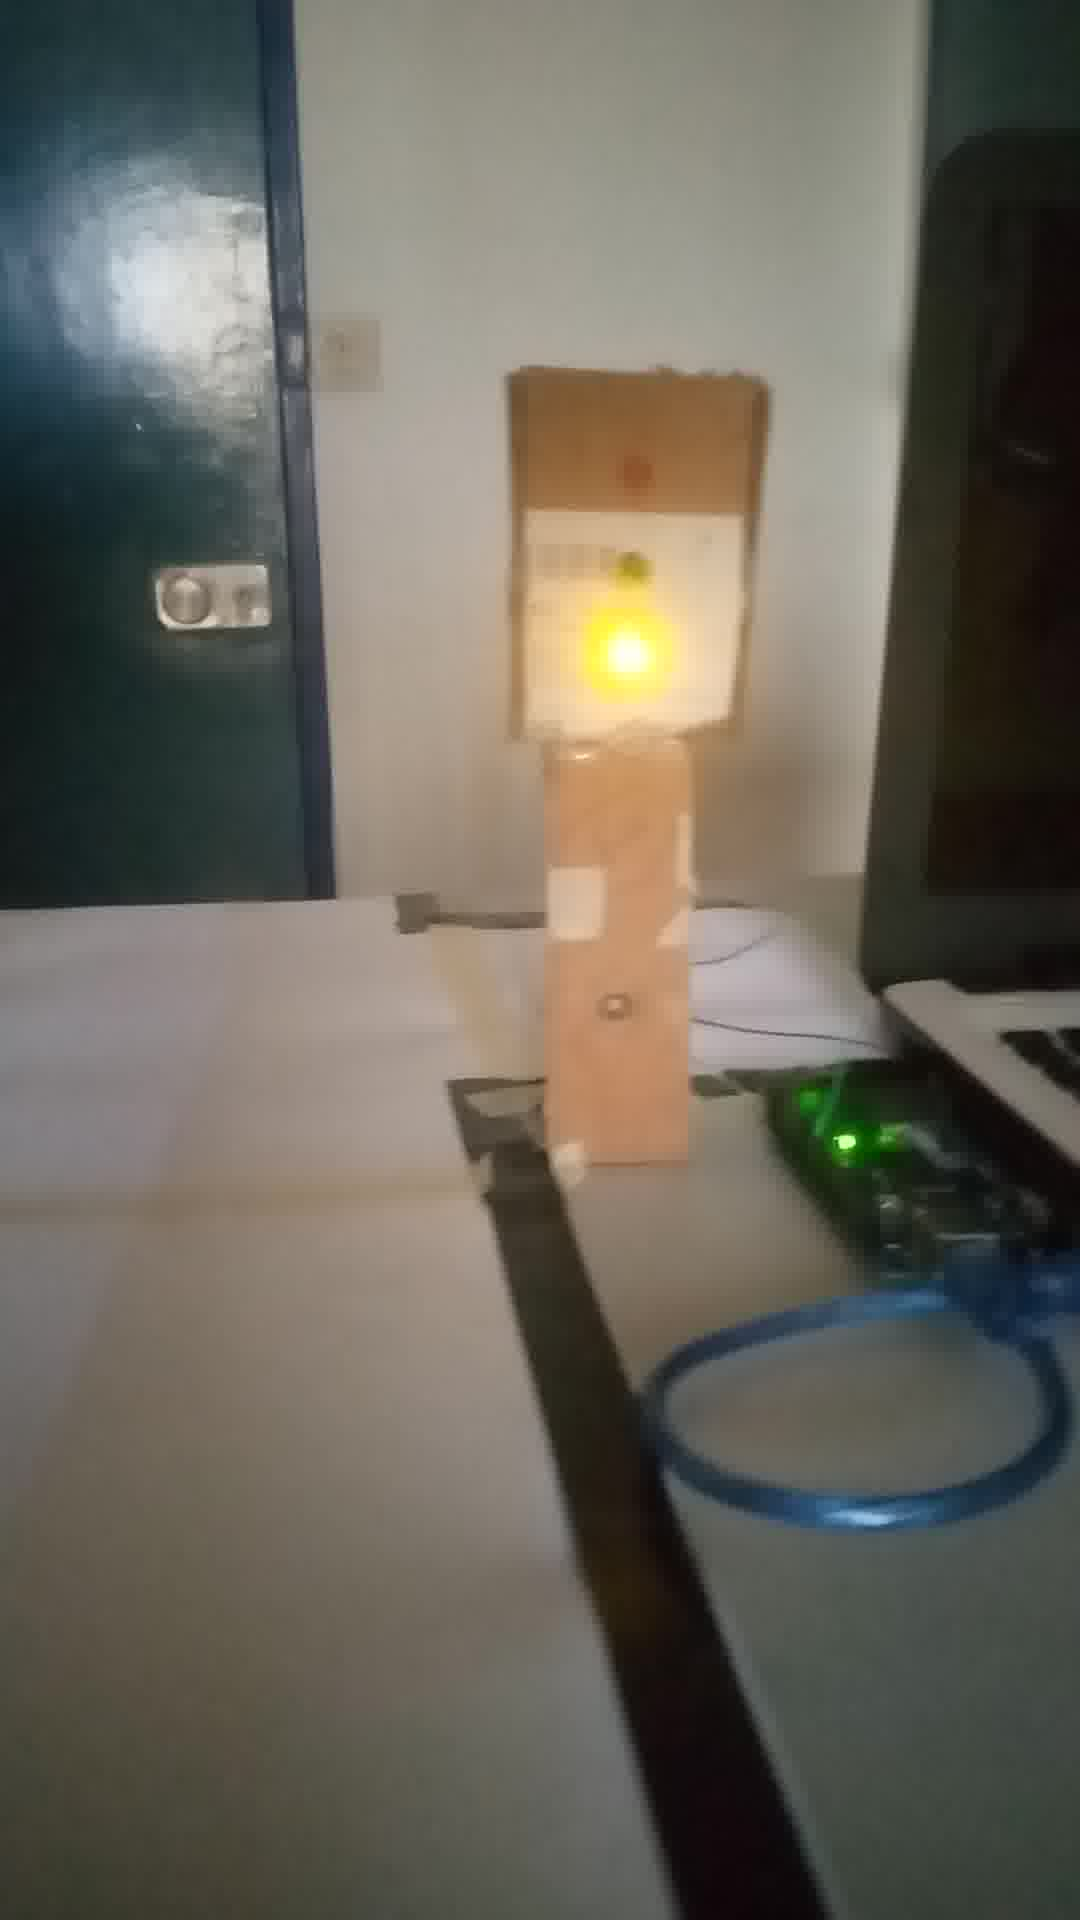green: (521, 360, 778, 737)
